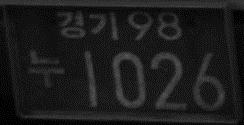0: (110, 50, 147, 109)
1: (75, 49, 107, 109)
2: (149, 51, 186, 111)
6: (190, 51, 224, 112)
8: (156, 9, 182, 41)
9: (126, 9, 153, 40)
경기_O: (56, 10, 120, 41)
누: (25, 47, 66, 88)
